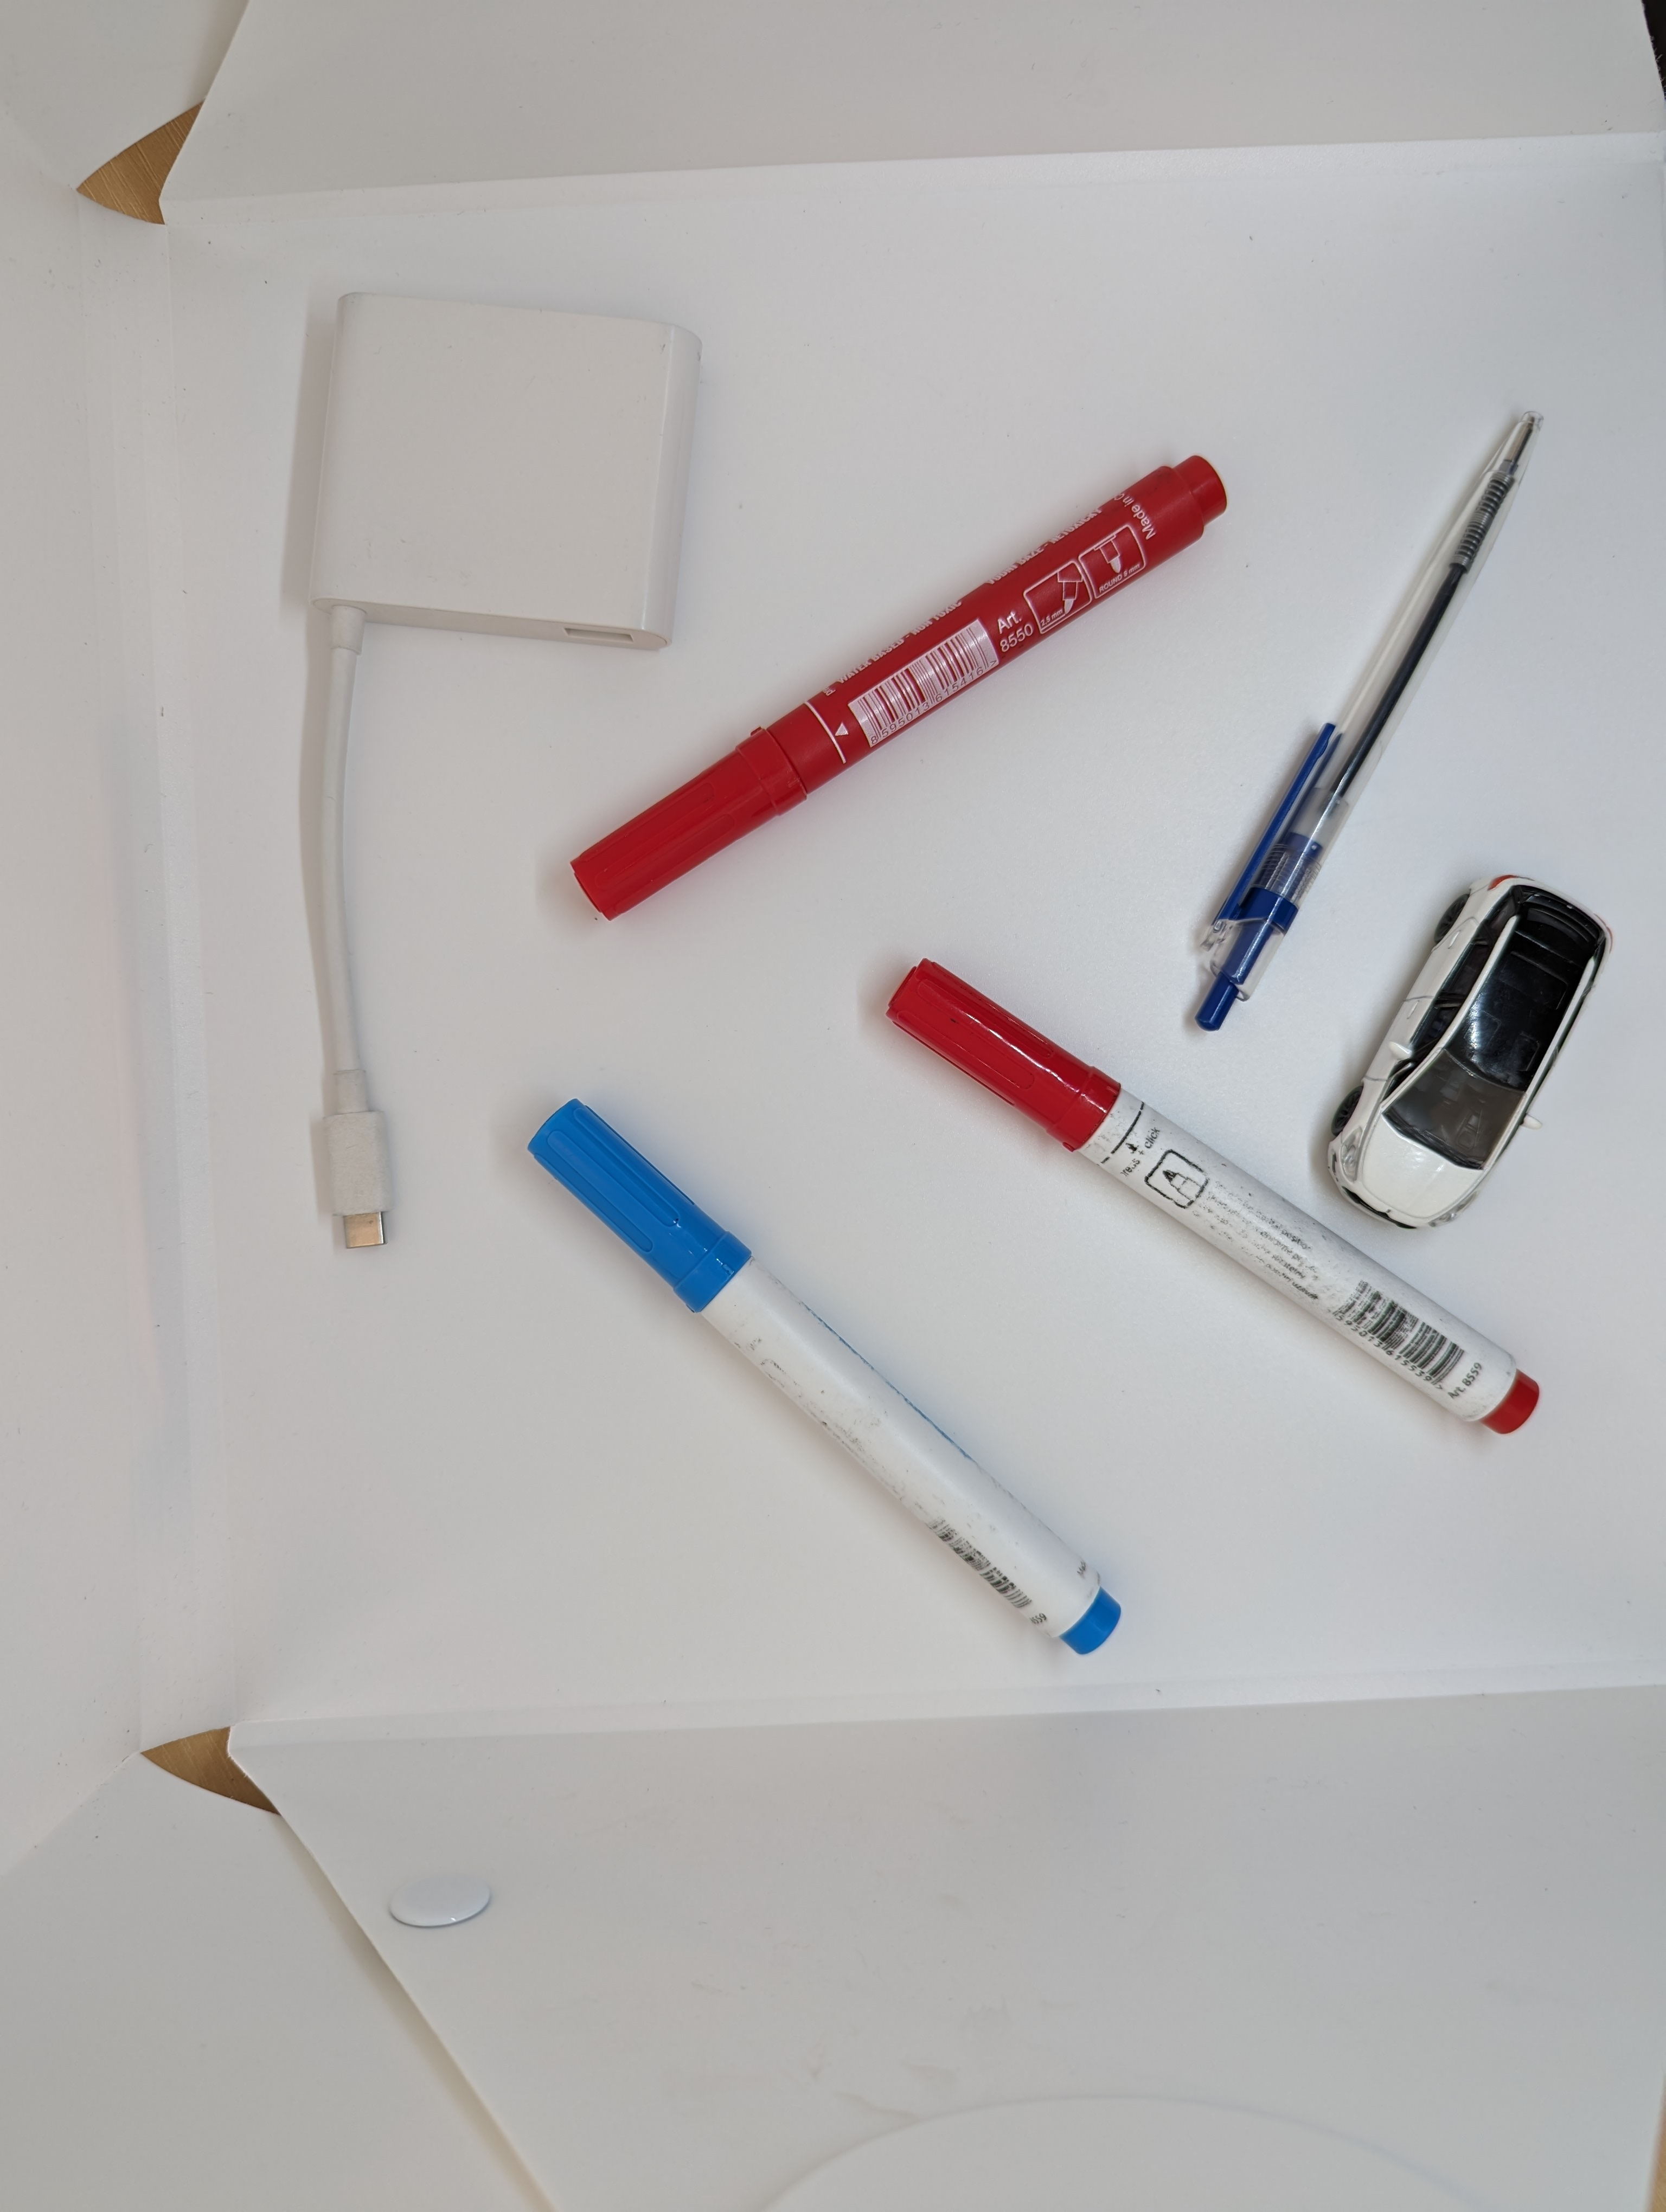blue-stylo: (494, 1040, 1174, 1934)
red-red-stylo: (523, 245, 1241, 956)
red-stylo: (852, 876, 1622, 1677)
regular-stylo: (1176, 334, 1593, 1117)
